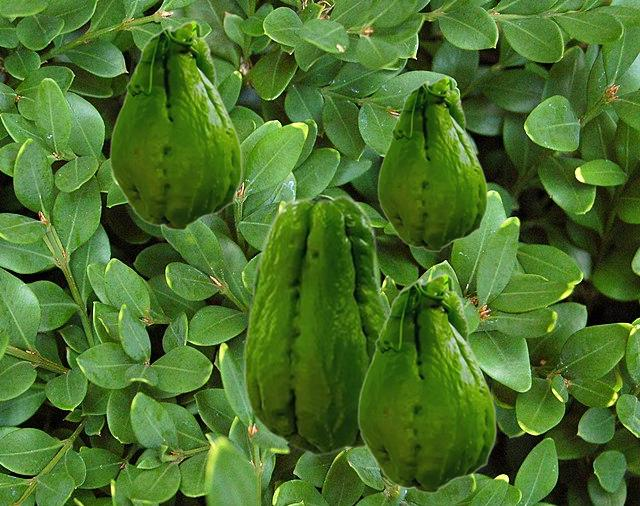sayote: (243, 194, 388, 455), (357, 273, 496, 493), (109, 20, 242, 230), (377, 76, 487, 251)
